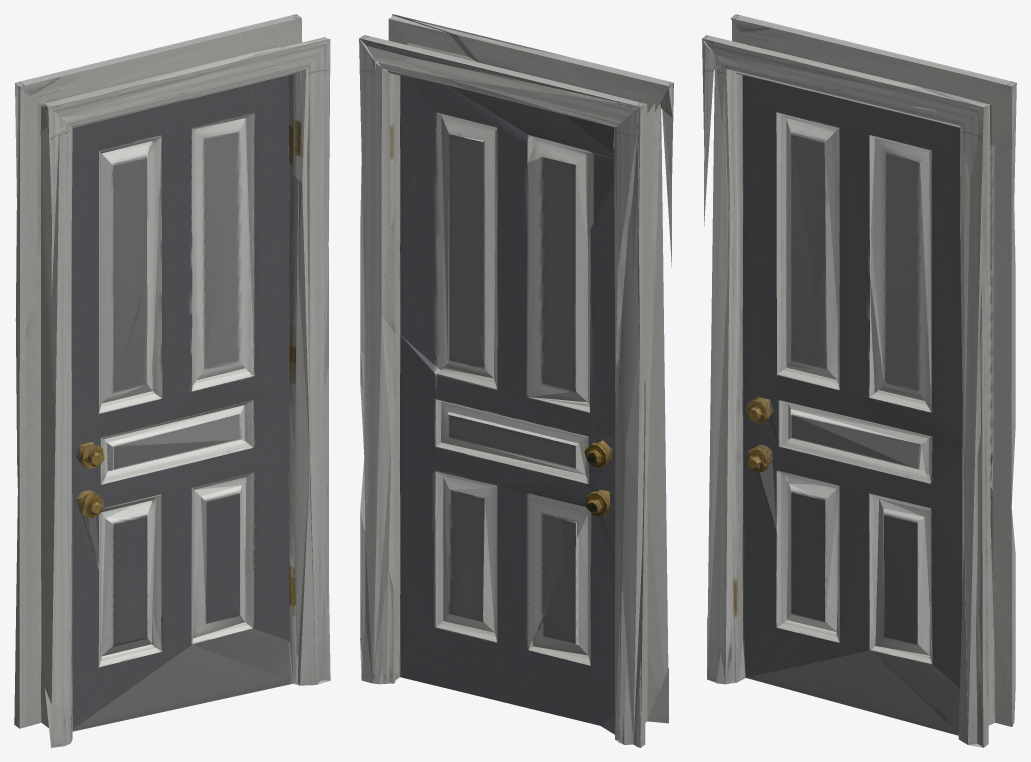
File: Standalone_door_in_field.glb
The picture shows the model from 3 angles, left to right: view 1: azimuth 30°, elevation 25°; view 2: azimuth 150°, elevation 25°; view 3: azimuth 330°, elevation 25°; orthographic projection.
Size of the model in its own units: 0.8755 by 1.9 by 0.1903.
1 material, 1 textured.
